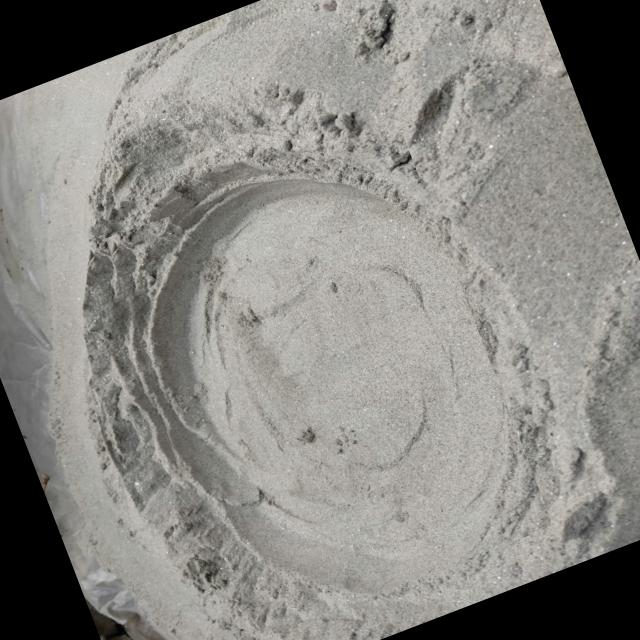C40: (145, 180, 502, 591)
